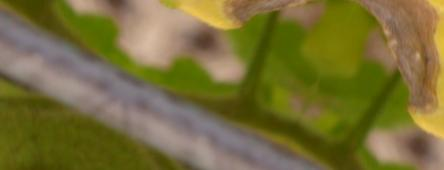Tomato Early blight leaf: (163, 0, 396, 88)
